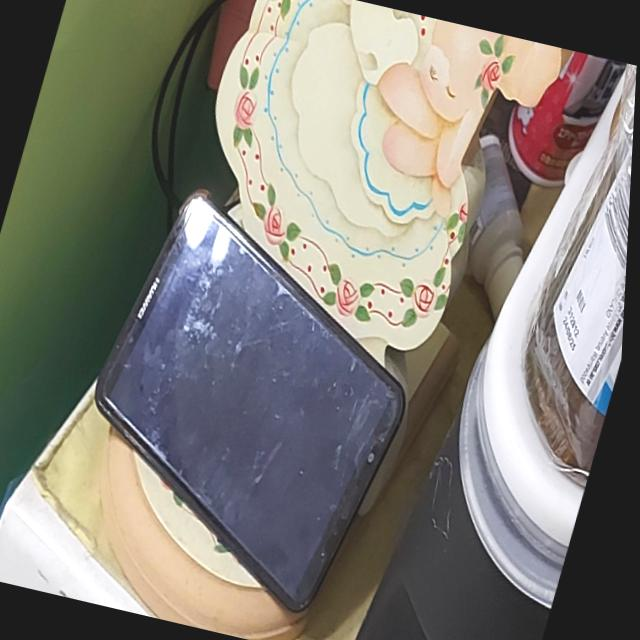Smartphone: (99, 193, 409, 613)
